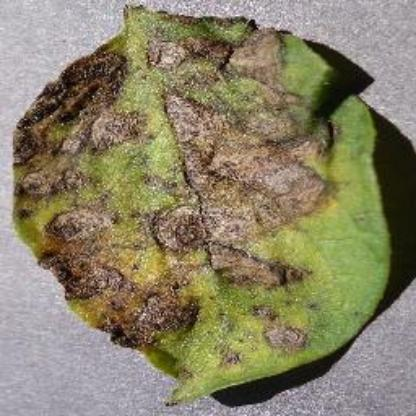Early-Blight: (12, 3, 398, 403)
